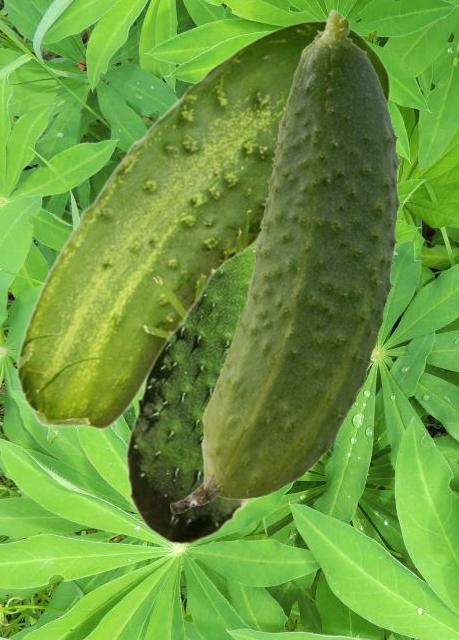cucumber: (15, 20, 389, 429), (170, 9, 402, 512), (125, 249, 253, 544)
